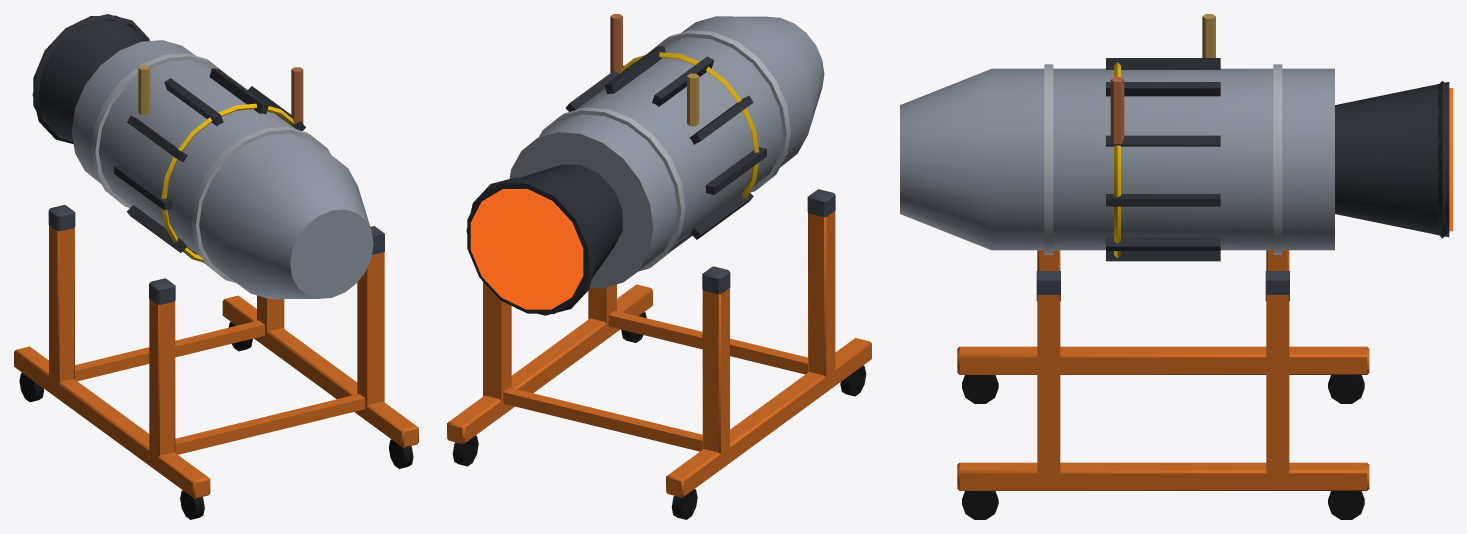
Rendered from hangartool_engine_stand.glb.
3 views of the same model, side by side, from view 1: azimuth 30°, elevation 25°; view 2: azimuth 150°, elevation 25°; view 3: azimuth 270°, elevation 25° (orthographic). The views are drawn at different scales.
Parts seen in each view (by area): view 1: hangartool_engine_stand; view 2: hangartool_engine_stand; view 3: hangartool_engine_stand.
Part boxes in pixels (box(x1,y1,x2,y2)): hangartool_engine_stand: box(14, 14, 418, 519); hangartool_engine_stand: box(447, 14, 871, 519); hangartool_engine_stand: box(900, 14, 1452, 519).
Size of the model in its own units: 1.3 by 2 by 2.41.
